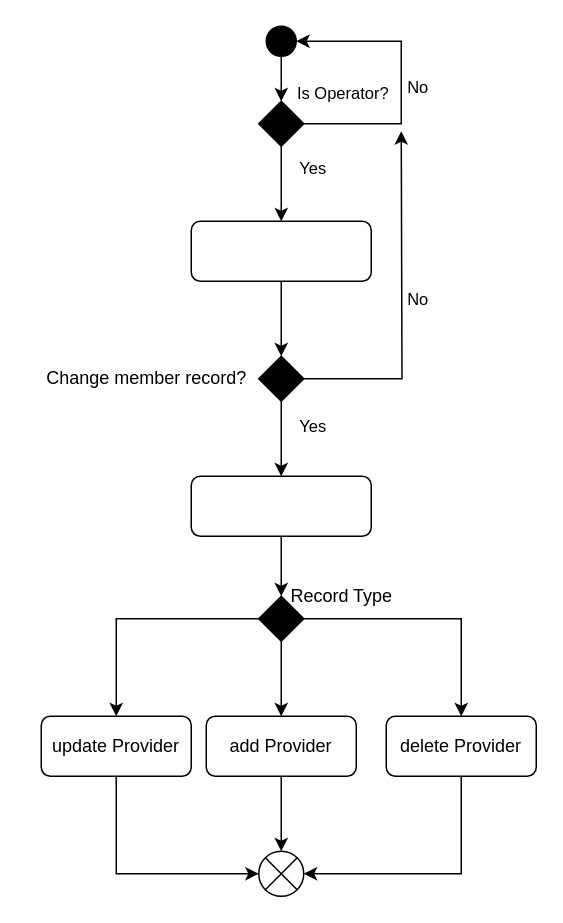
The diagram is 563 pixels wide and 923 high, and some of its shapes have lost their labels. Here are the shapes that lost their labels. From the top down, the centre of each, then its label:
(280,250): Select Provider Record
(280,505): Provider Management
